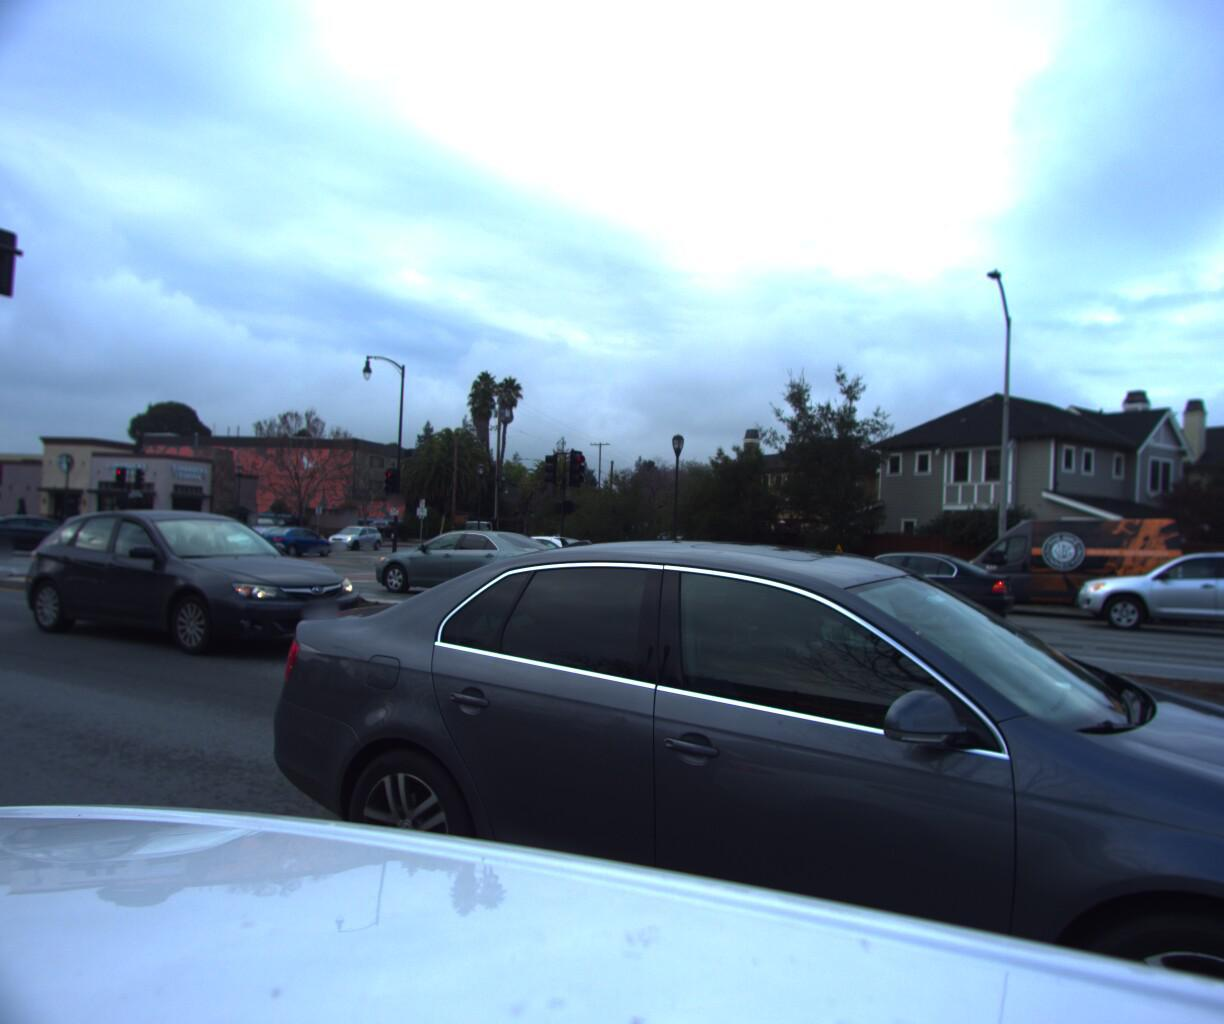car: (212, 538, 1224, 1024), (19, 515, 401, 683), (929, 507, 1187, 624), (768, 543, 1018, 633), (352, 523, 585, 611), (1066, 542, 1224, 644), (432, 527, 642, 602), (619, 533, 812, 605), (0, 514, 112, 559), (248, 526, 338, 561), (325, 527, 393, 553)
truck: (460, 515, 519, 549)
